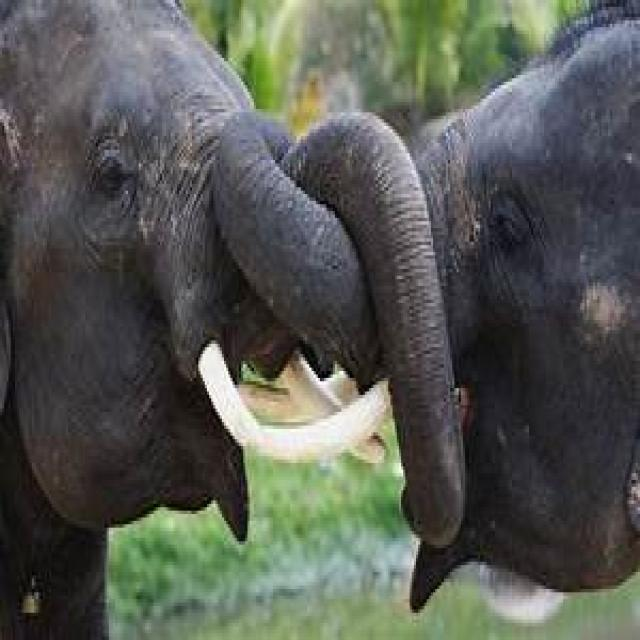elephant: (305, 0, 640, 620)
